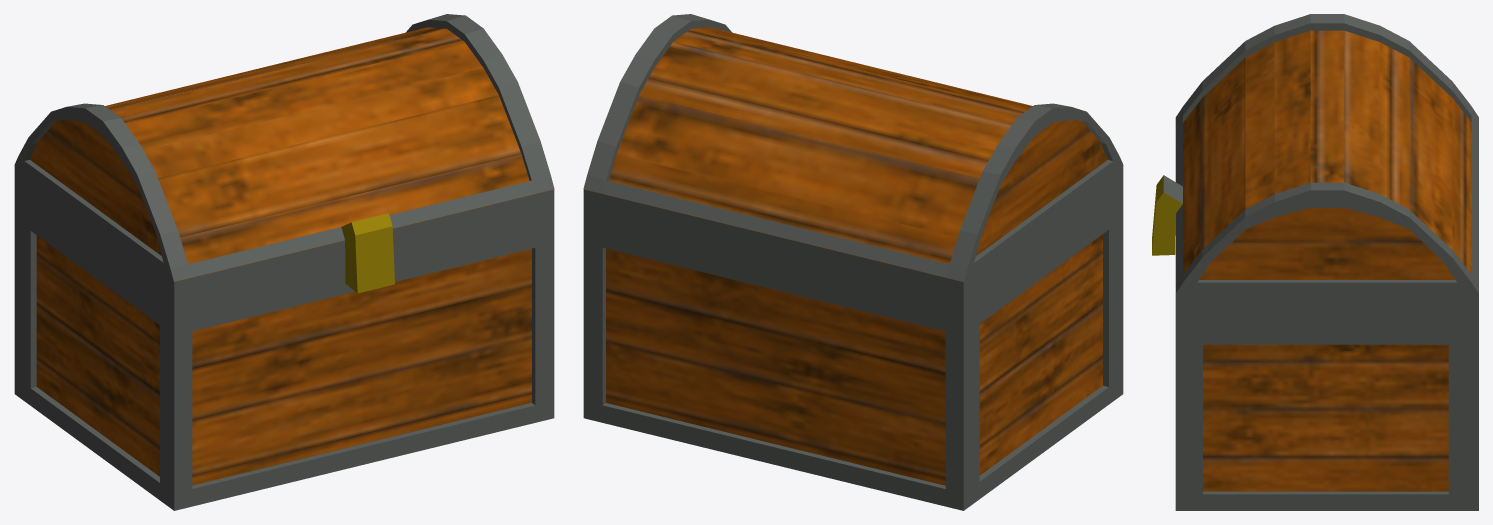
File: ClosedChest.glb
3 renders of one model, left to right at view 1: azimuth 30°, elevation 25°; view 2: azimuth 150°, elevation 25°; view 3: azimuth 270°, elevation 25°, orthographic. The views are drawn at different scales.
Parts seen in each view (by area): view 1: ClosedChest; view 2: ClosedChest; view 3: ClosedChest.
Boxes of the visible parts, box(x1,y1,x2,y2) form: ClosedChest: box(14, 14, 554, 510); ClosedChest: box(583, 14, 1123, 510); ClosedChest: box(1152, 14, 1478, 510).
Bounding box in the file's own units: 0.686 × 0.5817 × 0.5375.
Materials: 3 (1 with a texture image).
